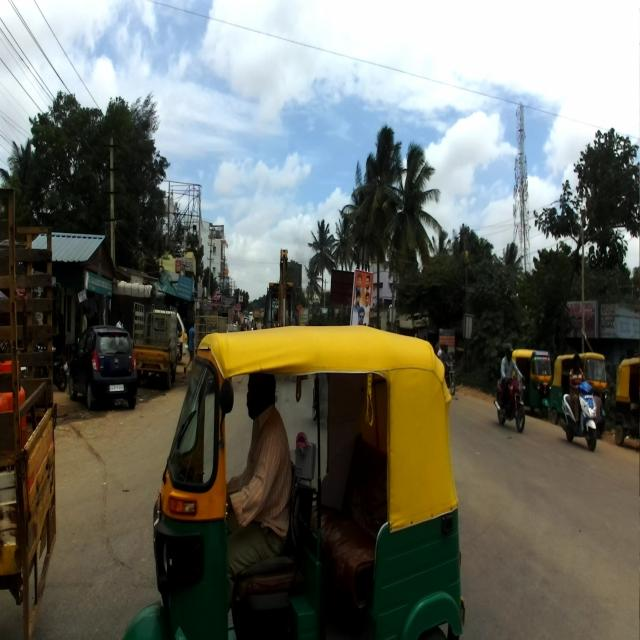Car_Hyundai: (68, 325, 138, 410)
autorickshaw: (122, 322, 466, 638), (514, 346, 554, 418)
motorcycle_bajaj: (494, 374, 525, 432)
scooter: (559, 380, 597, 451)
